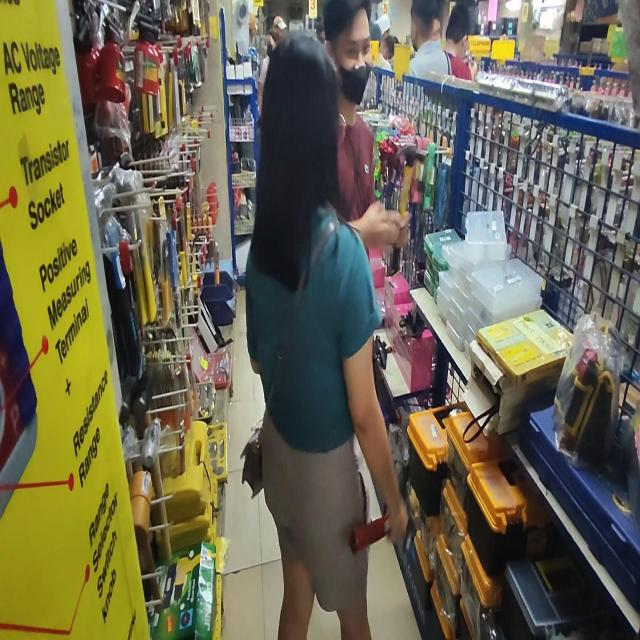hammer: (388, 143, 428, 277)
